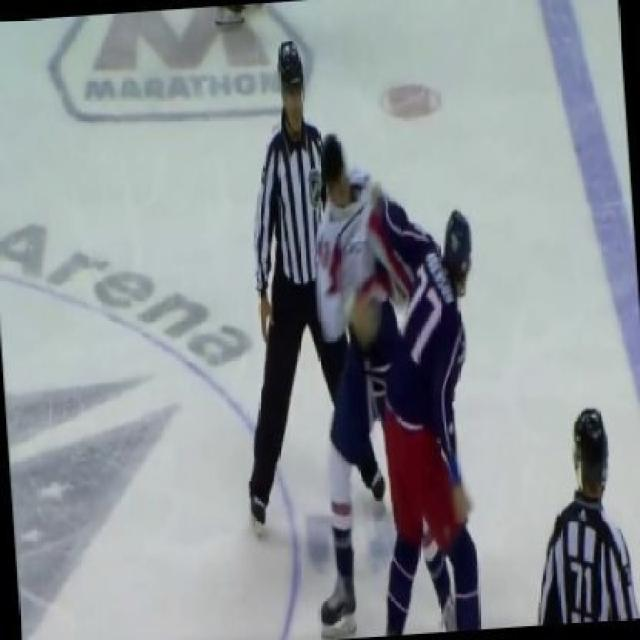fight: (294, 115, 503, 634)
non-fight: (248, 45, 389, 528), (534, 401, 638, 637)
